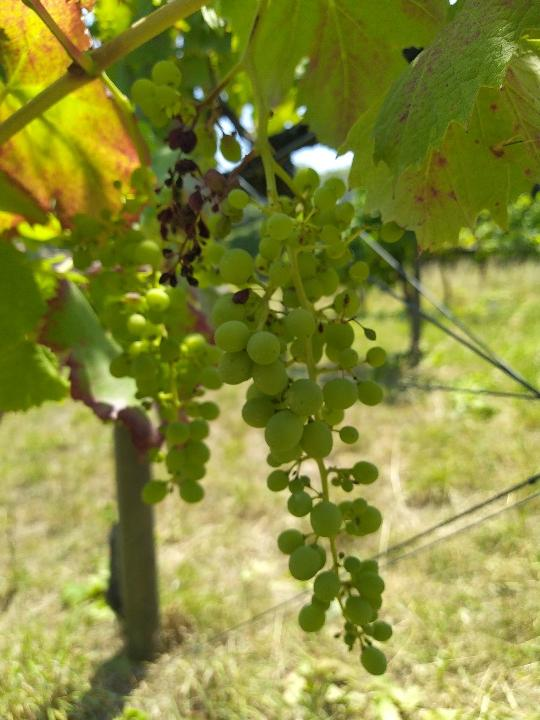grape: (200, 170, 410, 683), (139, 89, 219, 288)
